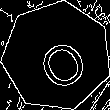O_NW: (25, 23, 88, 89)
